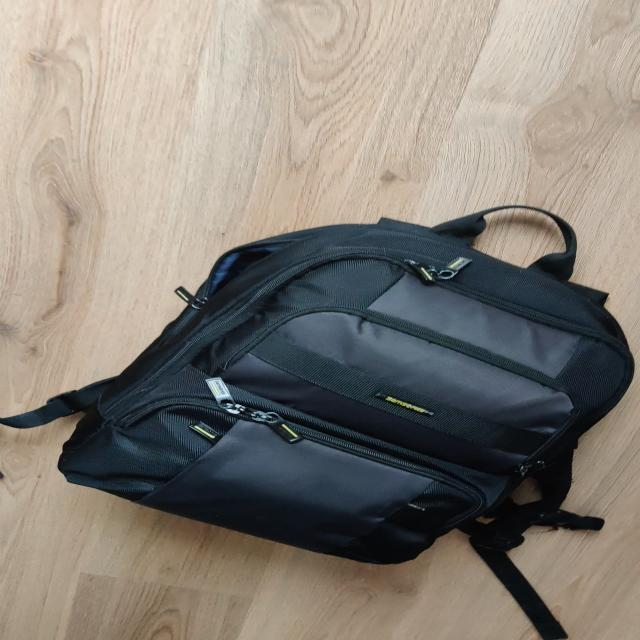backpack: (23, 201, 640, 571)
